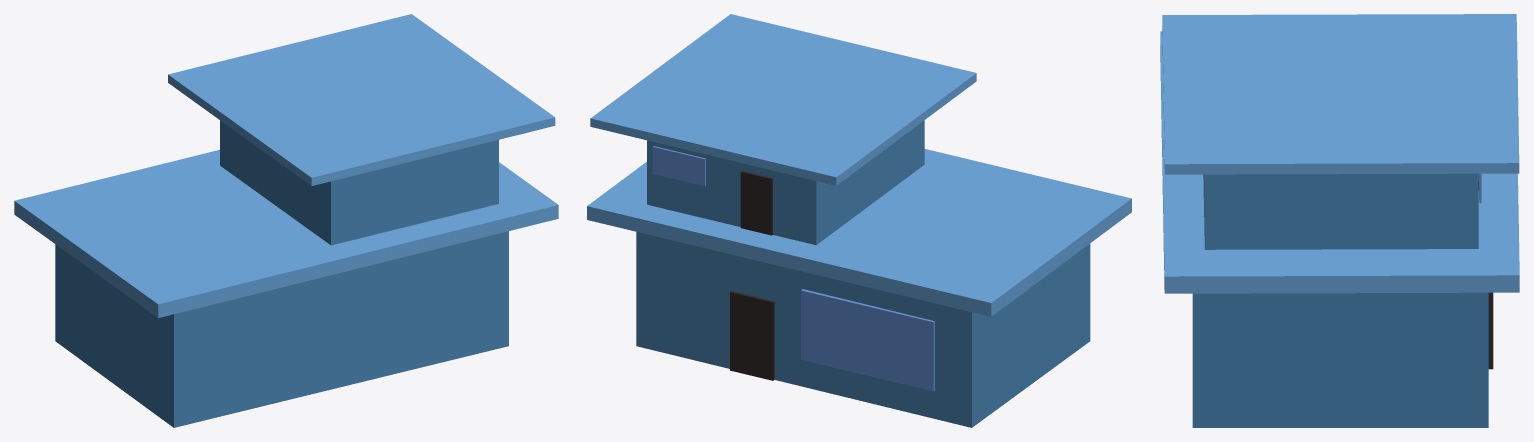
Rendered from Dealer_House.fbx.
3 views of the same model, side by side, from view 1: azimuth 30°, elevation 25°; view 2: azimuth 150°, elevation 25°; view 3: azimuth 270°, elevation 25° (orthographic). The views are drawn at different scales.
Visible parts, largest first — view 1: Cube, Techo_1, Techo_2, Cube.001; view 2: Techo_1, Cube, Techo_2, Cube.001, Window_1, Door_1, Door_2, Window_2; view 3: Techo_2, Cube, Techo_1, Cube.001, Door_1.
Part boxes in pixels (x1,y1,x2,y2): Cube: (55, 231, 508, 427); Techo_1: (14, 150, 558, 317); Techo_2: (168, 14, 555, 185); Cube.001: (220, 120, 498, 245); Techo_1: (587, 149, 1131, 316); Cube: (636, 232, 1090, 427); Techo_2: (590, 14, 976, 185); Cube.001: (647, 120, 924, 245); Window_1: (801, 289, 934, 391); Door_1: (730, 291, 774, 380); Door_2: (740, 171, 772, 235); Window_2: (652, 146, 705, 186); Techo_2: (1162, 14, 1519, 174); Cube: (1192, 292, 1488, 427); Techo_1: (1160, 31, 1519, 293); Cube.001: (1203, 173, 1478, 249); Door_1: (1488, 292, 1493, 369).
Bounding box in the file's own units: 3393 × 2093 × 1832.
